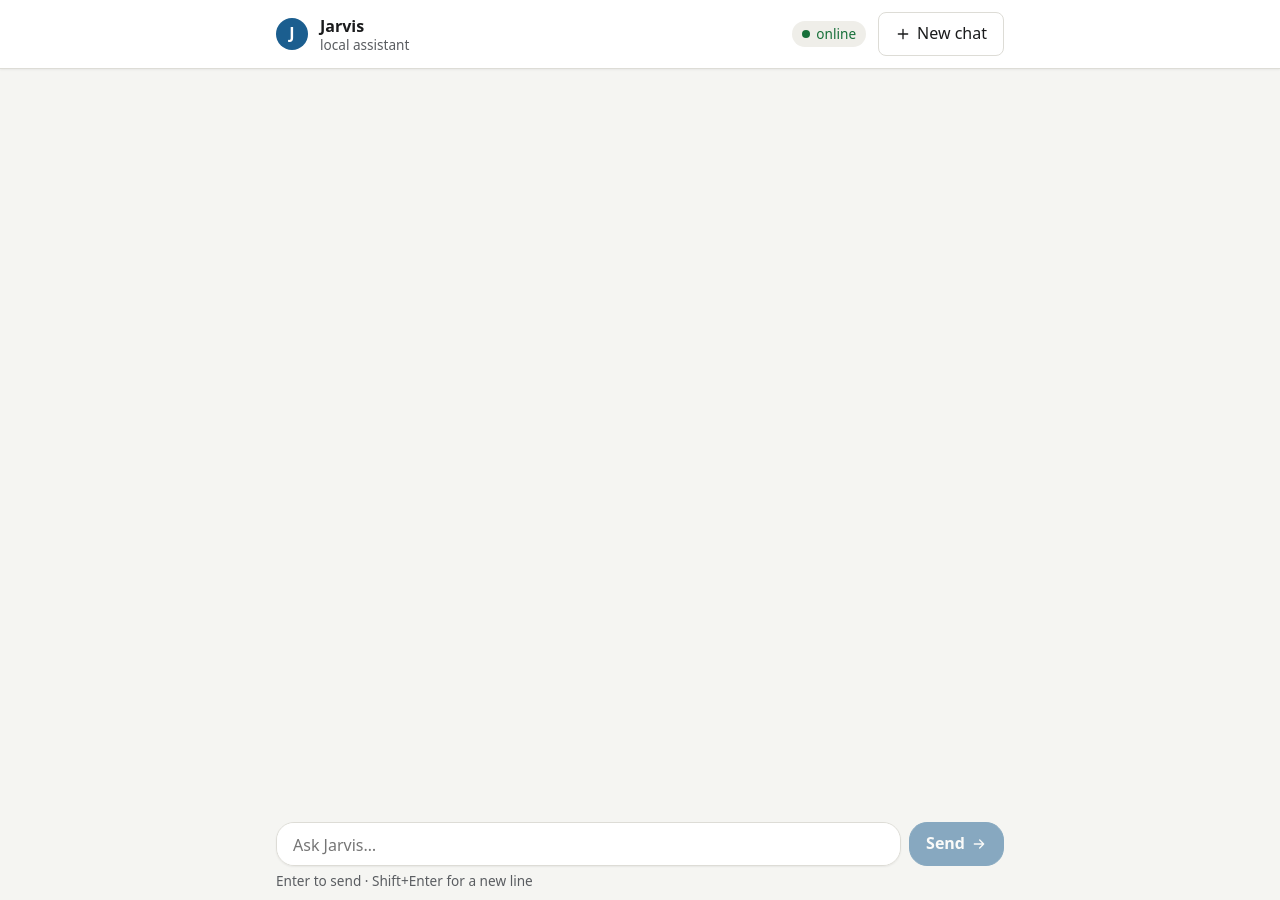
it: App with a scripted stream › shows reply as plain text, tool card, sources and the confirm card
Type "time?" into the text box named "Message to Jarvis". click: (589, 844)
box: [276,822,901,866]
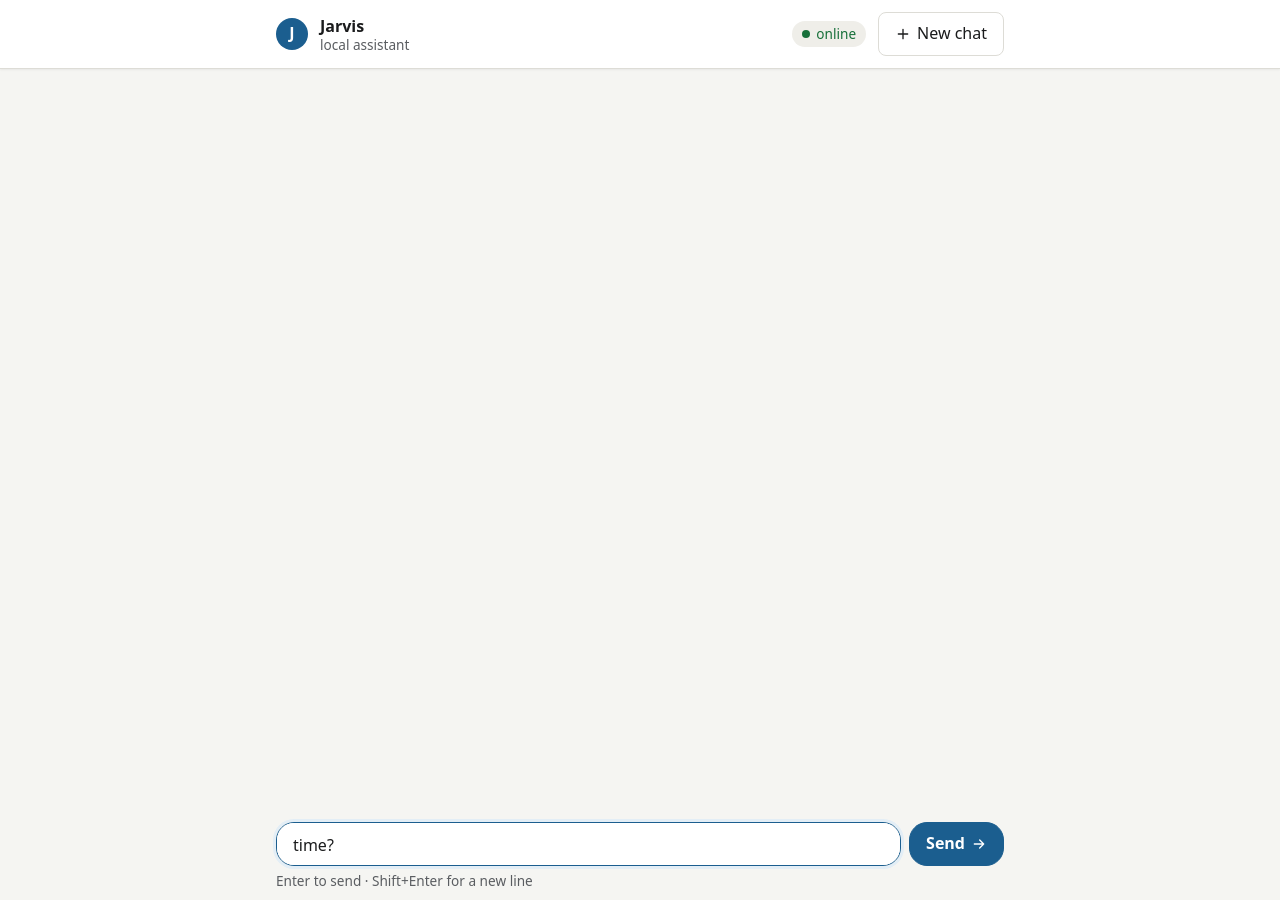
Click the button "Send". click: (957, 844)
box: [909,822,1004,866]
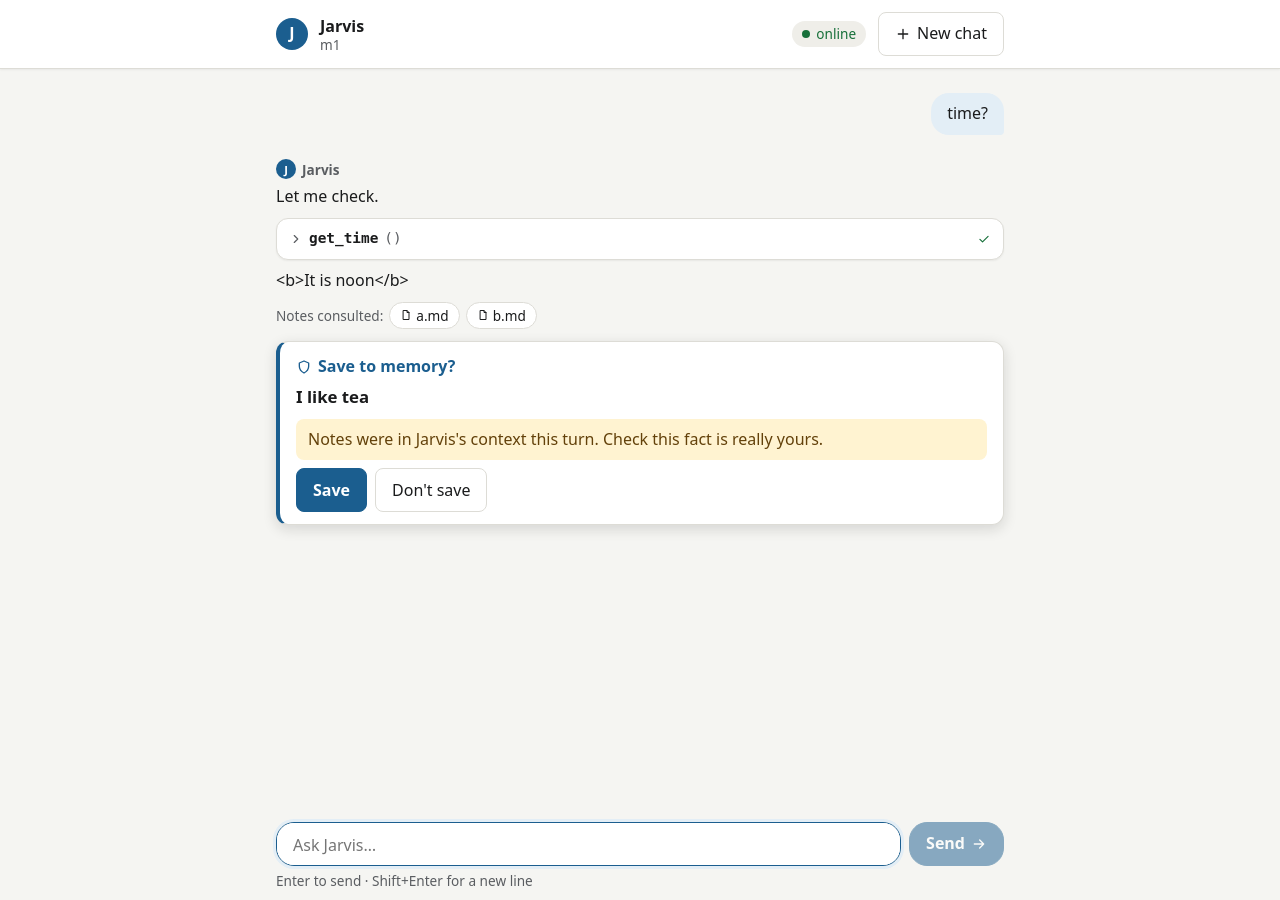
Expected: the heading "Save to memory?" is shown, [296,355,455,377]
Expected: the text "<b>It is noon</b>" is shown, [276,269,409,291]
Expected: the text "get_time" is shown, [309,227,378,250]
